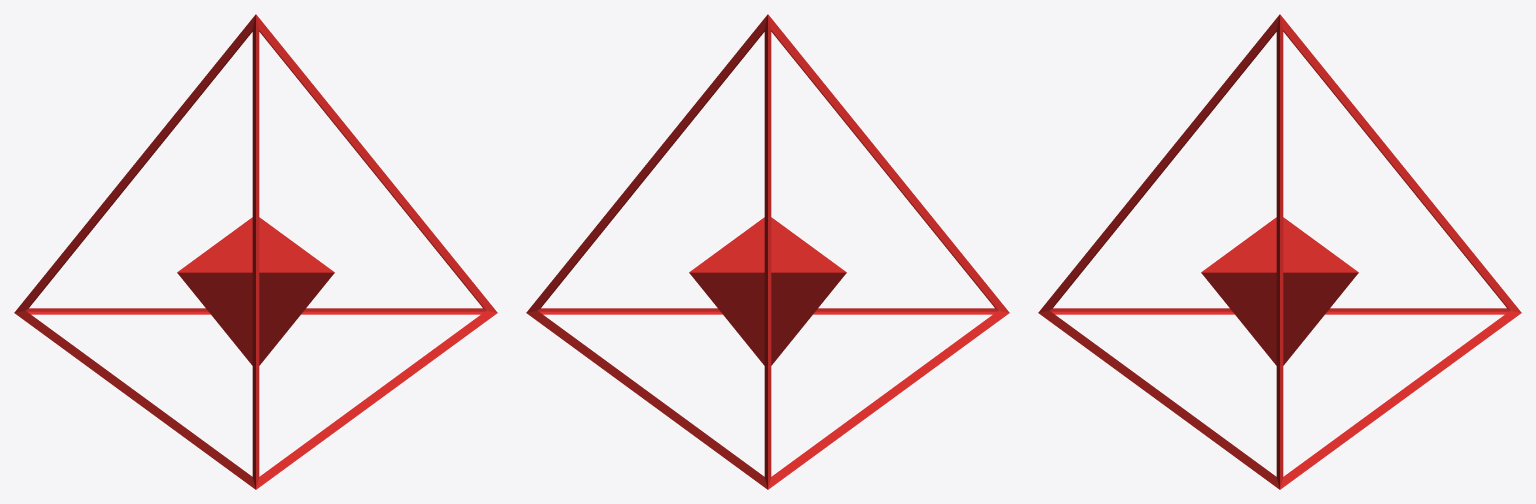
The model's file is dual_tetraedro.glb.
3 views of the same model, side by side, from view 1: azimuth 30°, elevation 25°; view 2: azimuth 150°, elevation 25°; view 3: azimuth 270°, elevation 25° (orthographic).
Visible parts, largest first — view 1: Solid.002, Solid.001; view 2: Solid.002, Solid.001; view 3: Solid.002, Solid.001.
Part boxes in pixels (x1,y1,x2,y2): Solid.002: (14,14,497,489); Solid.001: (177,217,334,365); Solid.002: (526,14,1009,489); Solid.001: (689,217,846,365); Solid.002: (1038,14,1521,489); Solid.001: (1201,217,1358,365).
Bounding box in the file's own units: 2.88 × 2.72 × 3.33.
